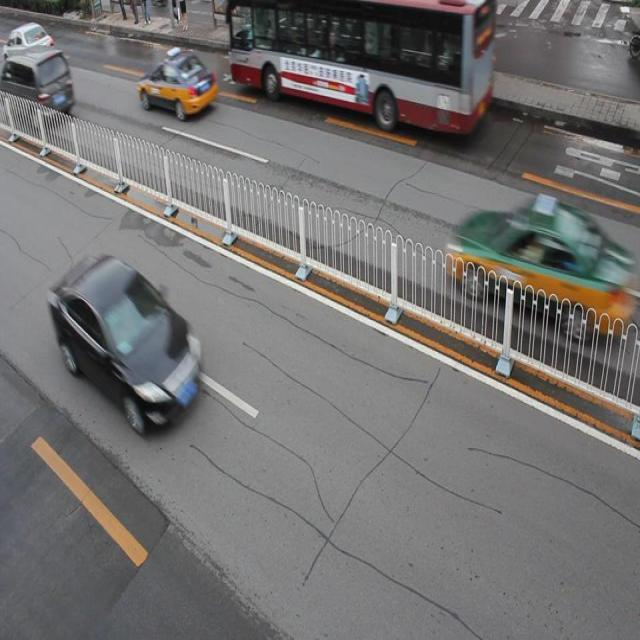car: (445, 192, 630, 334), (50, 254, 199, 423), (136, 52, 218, 116), (0, 22, 54, 68)
truck: (1, 47, 74, 126)
van: (228, 1, 494, 138)
